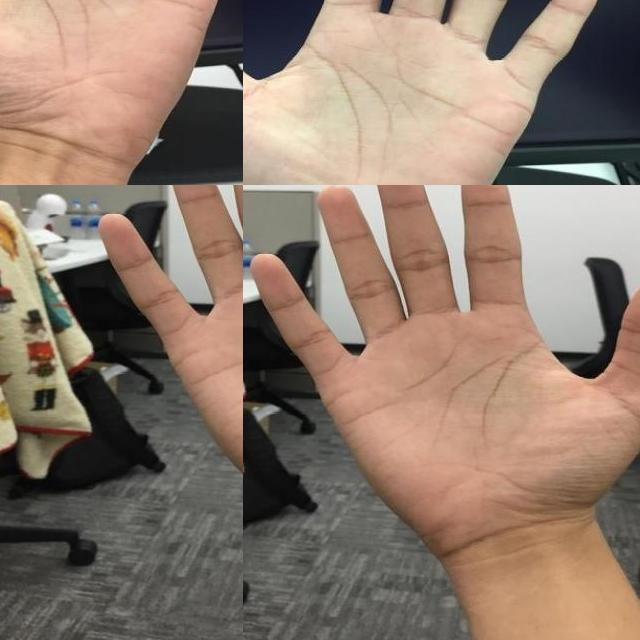no-gloves: (248, 185, 640, 549), (243, 0, 604, 185), (96, 185, 243, 509), (0, 0, 243, 185)
